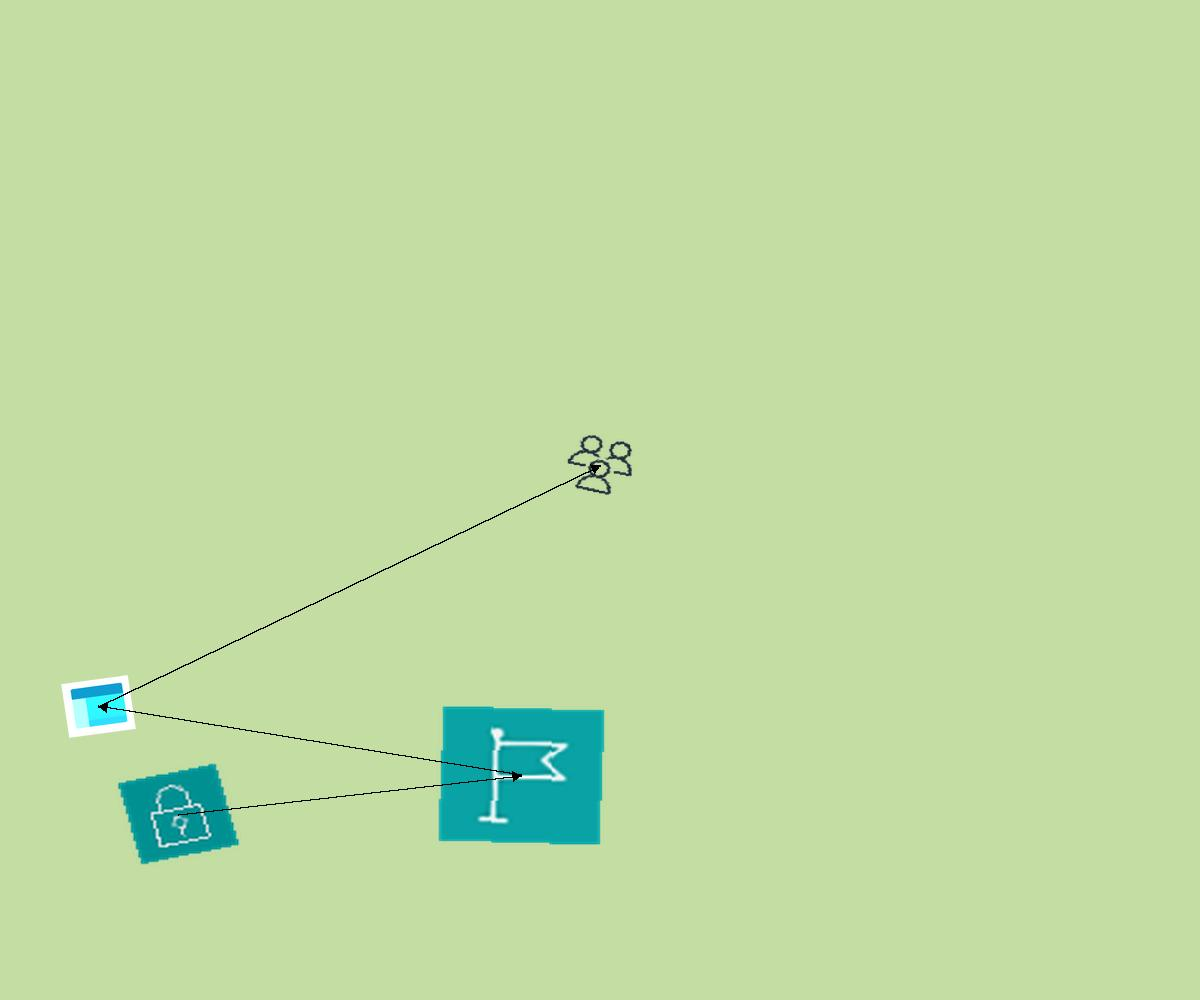AWS-Private-subnet: (116, 762, 241, 866)
AWS-Region: (437, 705, 606, 846)
AWS-Res_Users: (556, 428, 645, 502)
Azure_management-portal: (61, 675, 136, 738)
